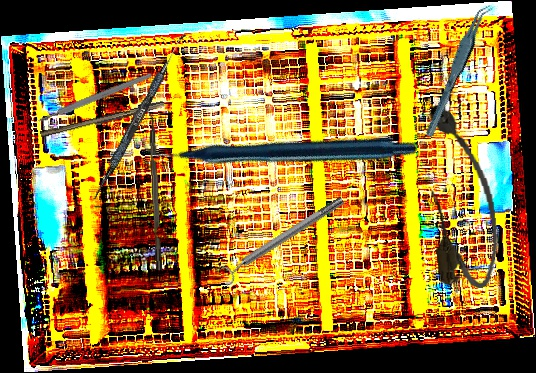Cannula: (418, 98, 504, 293)
Chopper: (142, 107, 162, 271)
Fixation Ring: (214, 190, 350, 288)
Handpiece: (137, 13, 421, 280)
Scalpel Handle: (37, 71, 154, 124), (39, 98, 166, 142)
Spatula Surgical: (91, 30, 187, 203)
Tissue Forceps: (410, 0, 505, 139)
